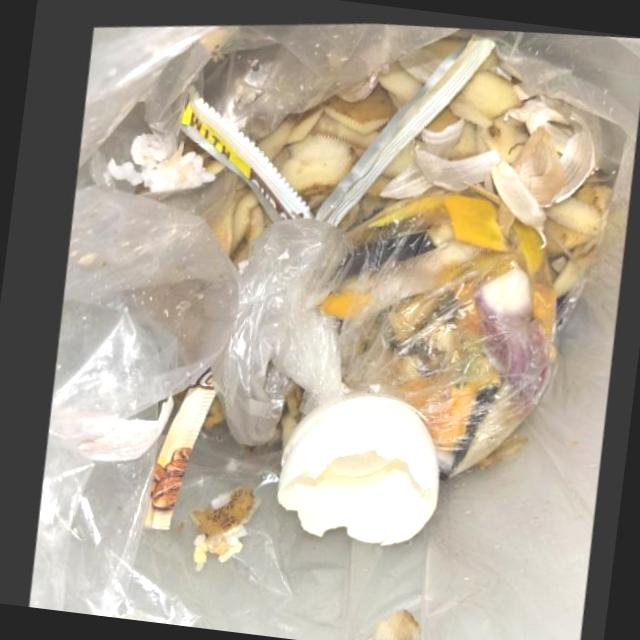thuc_an_thua: (317, 188, 553, 475)
tui_ni_long: (29, 176, 240, 629), (208, 211, 348, 439)
vo_rau_cu: (193, 168, 261, 271), (505, 119, 562, 204), (441, 65, 517, 128), (486, 159, 542, 240), (548, 220, 601, 300), (408, 141, 500, 187), (545, 112, 589, 204), (314, 77, 390, 130), (277, 126, 339, 185), (546, 180, 610, 235), (394, 32, 462, 81), (469, 110, 524, 164), (368, 51, 415, 102), (374, 155, 423, 193)
vo_trung: (276, 390, 439, 542)
